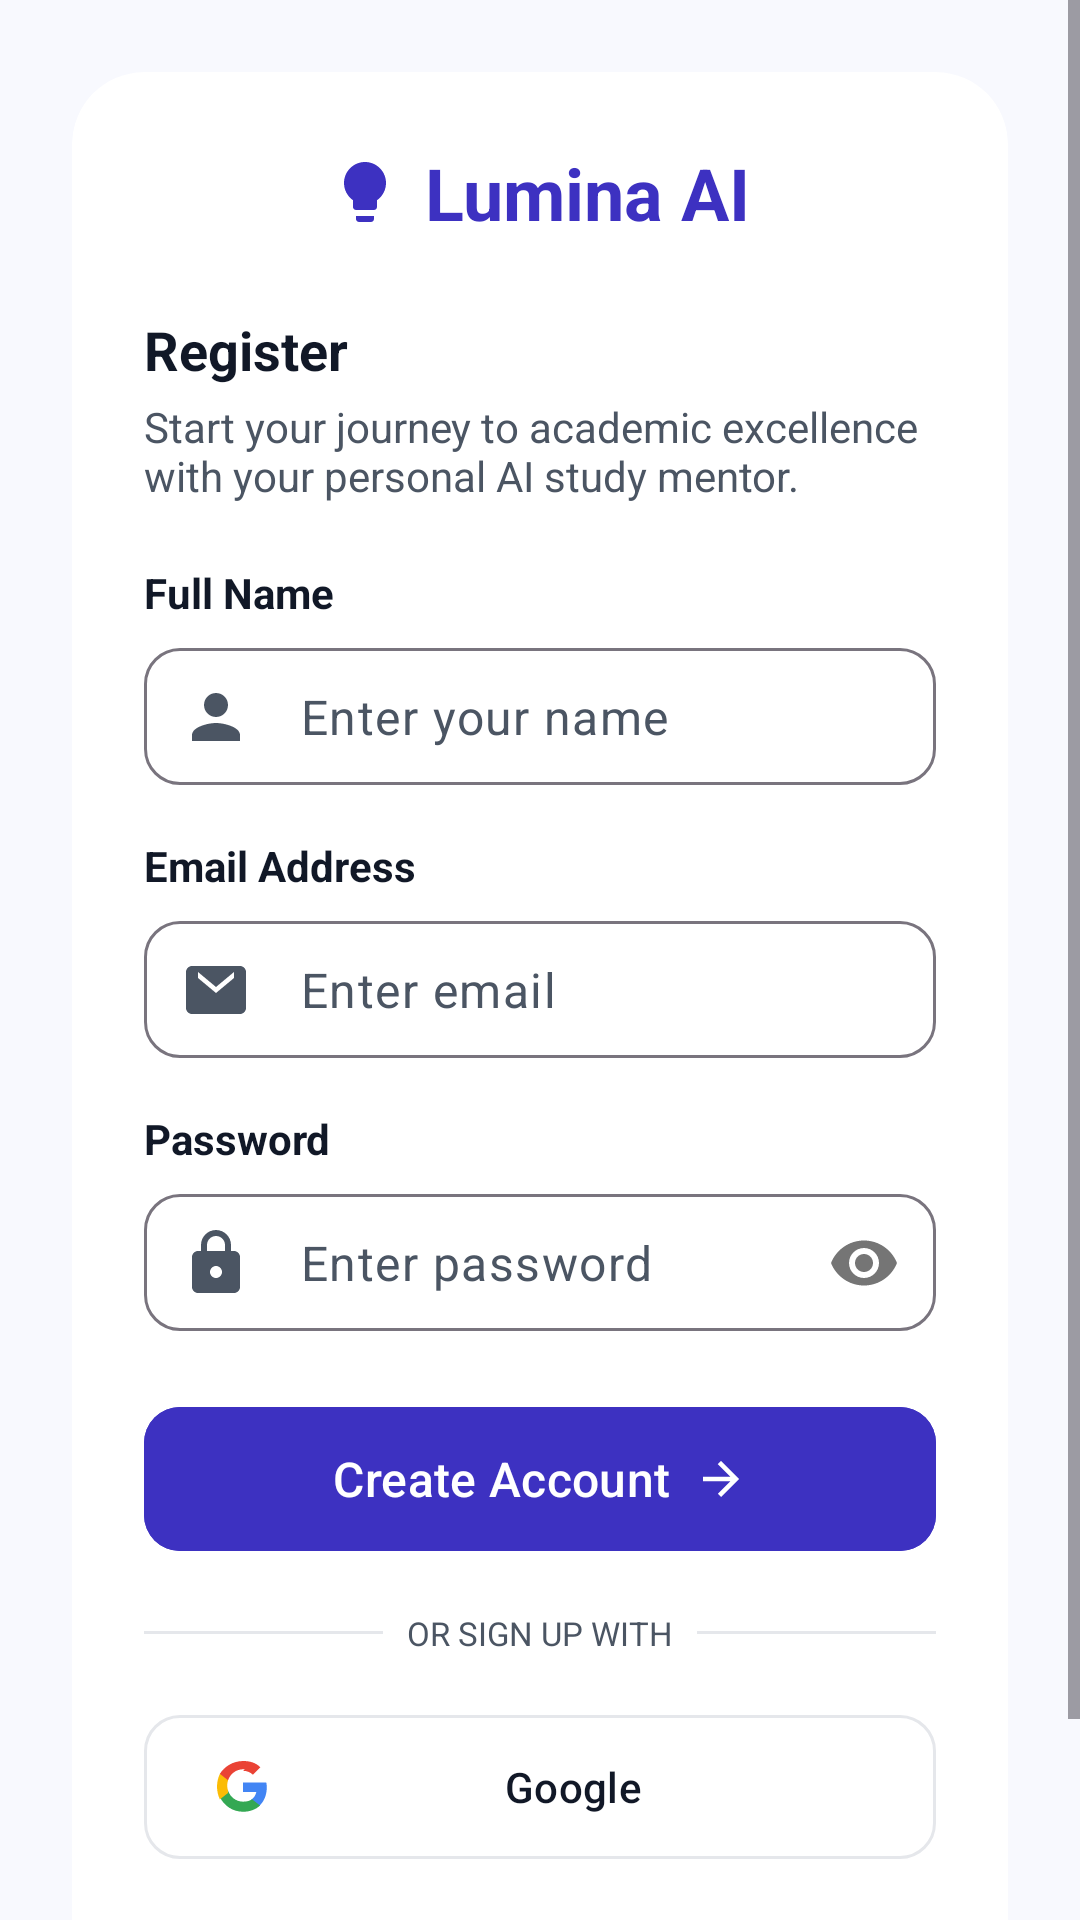

Locate icon controls on the screen. Image size 1080×1920, boxes as {"x1": x1, "y1": y1, "x2": x2, "y2": y2}.
lightbulb: {"x1": 344, "y1": 162, "x2": 386, "y2": 222}
